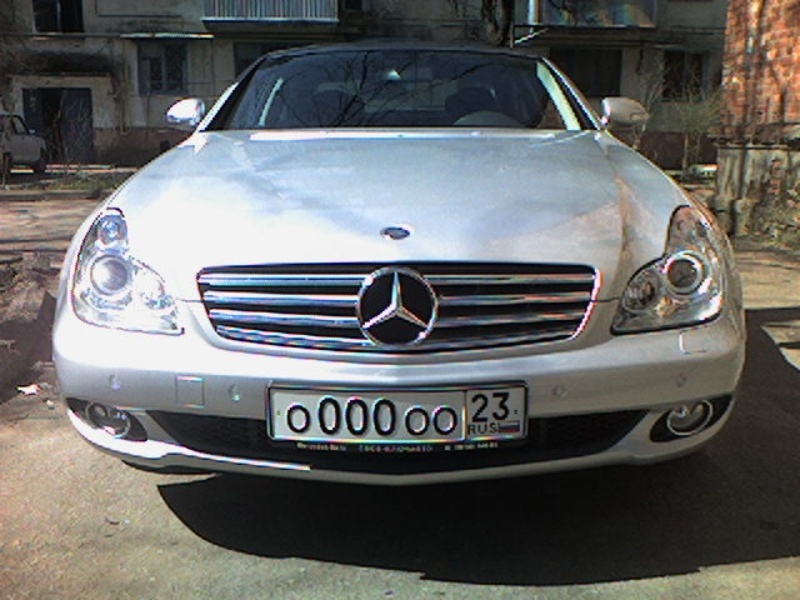car: (51, 42, 747, 488), (1, 113, 46, 178)
plate: (268, 387, 523, 439)
